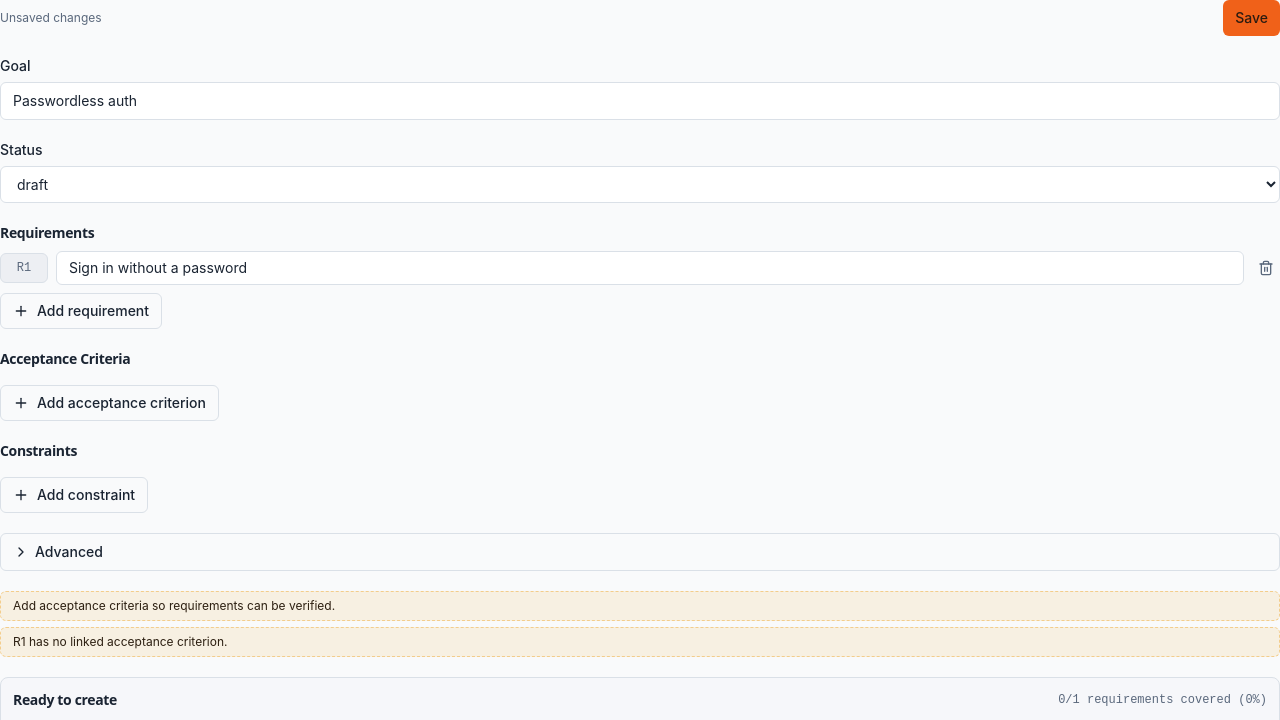
Test: GuidedMode › keeps Advanced collapsed by default and reveals it on toggle
Click the button with test id "guided-advanced-toggle".
click(69, 552)  # box [1,534,1279,570]
(page scrolled)
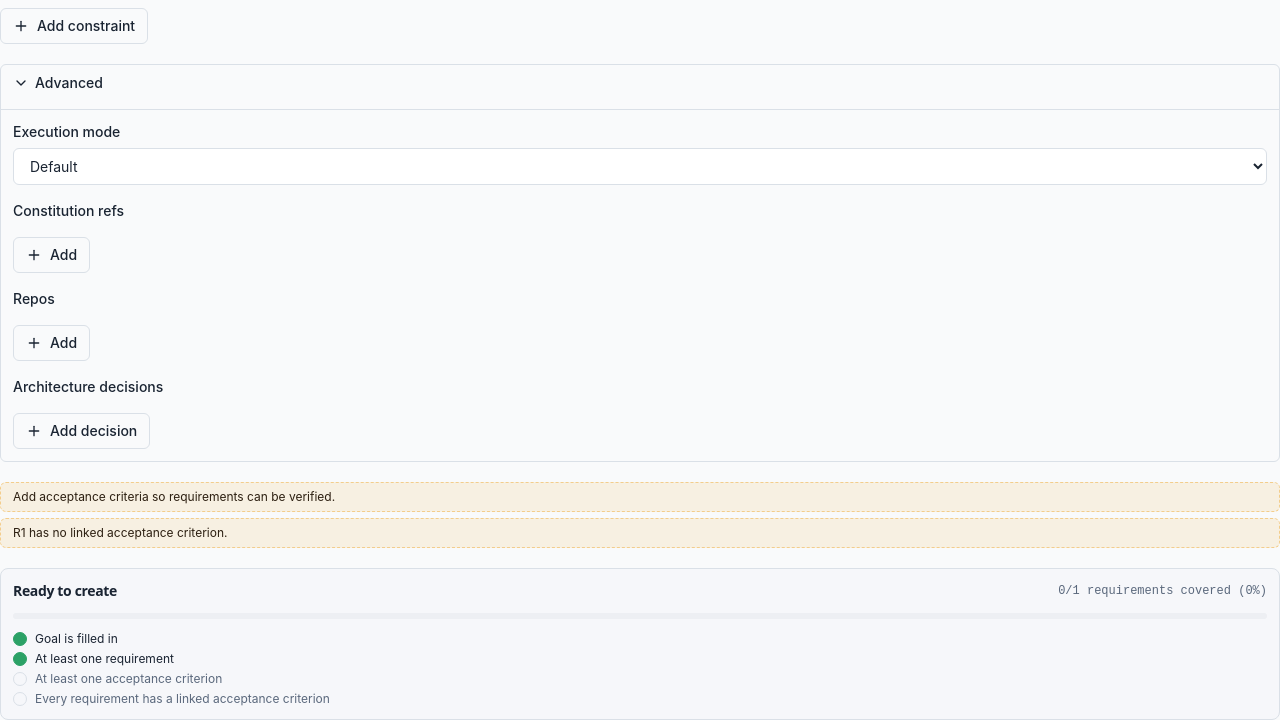
Now the element with test id "guided-advanced-panel" is shown, box [1,109,1279,461]
Now the dropdown with test id "guided-execution-mode" is shown, box [13,148,1267,185]
